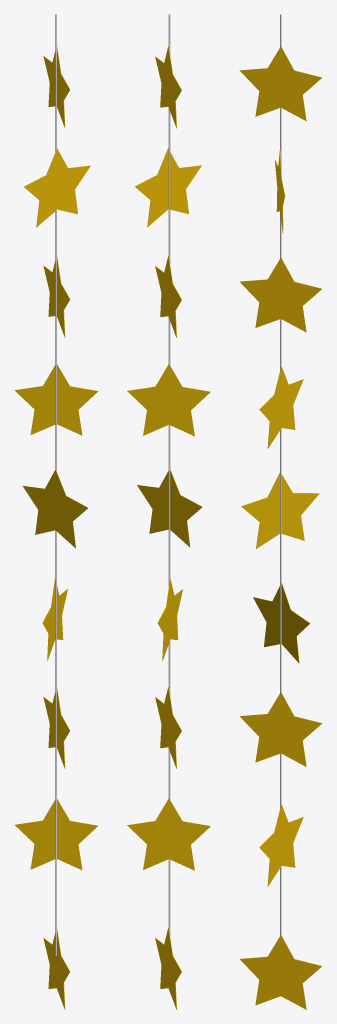
The model's file is PartyHangings01C_3.FBX.
3 views of the same model, side by side, from view 1: azimuth 30°, elevation 25°; view 2: azimuth 210°, elevation 25°; view 3: azimuth 270°, elevation 25° (orthographic).
Parts seen in each view (by area): view 1: PartyHangings01C_3; view 2: PartyHangings01C_3; view 3: PartyHangings01C_3.
Part boxes in pixels (bbox=[...]): PartyHangings01C_3: bbox=[14, 14, 98, 1009]; PartyHangings01C_3: bbox=[127, 14, 210, 1009]; PartyHangings01C_3: bbox=[239, 14, 322, 1009].
Size of what is drawn, in the model's own units: 0.0836 by 1.09 by 0.0825.
